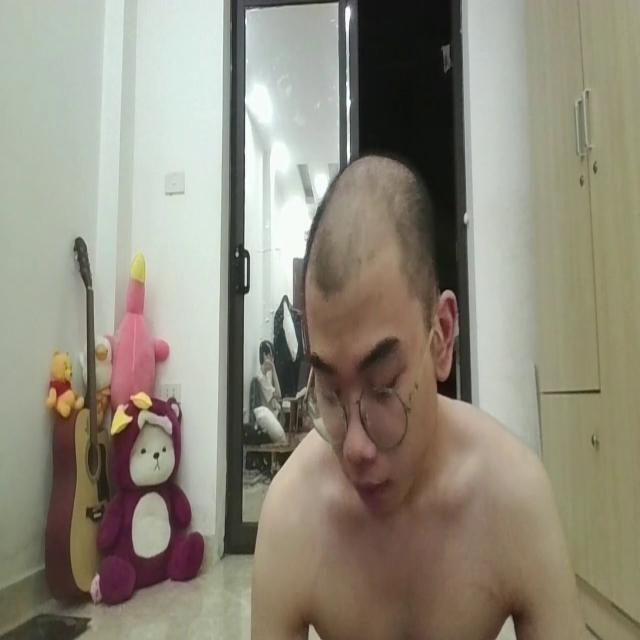student: (238, 148, 586, 640)
